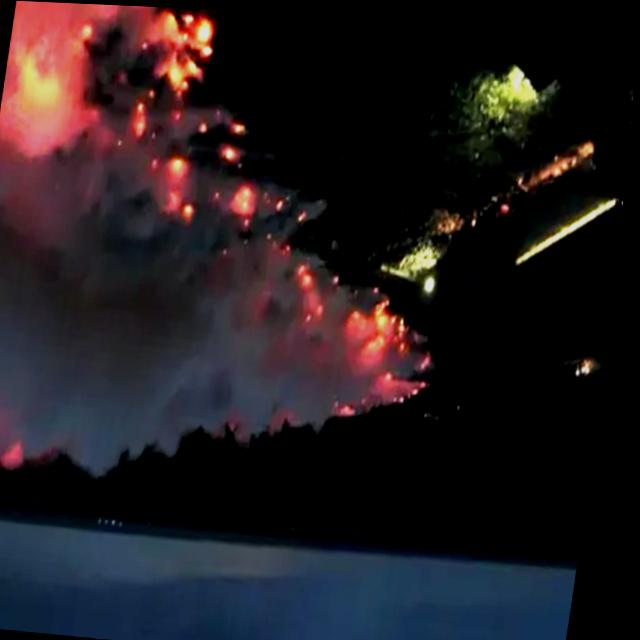no_helmet: (0, 0, 483, 501)
